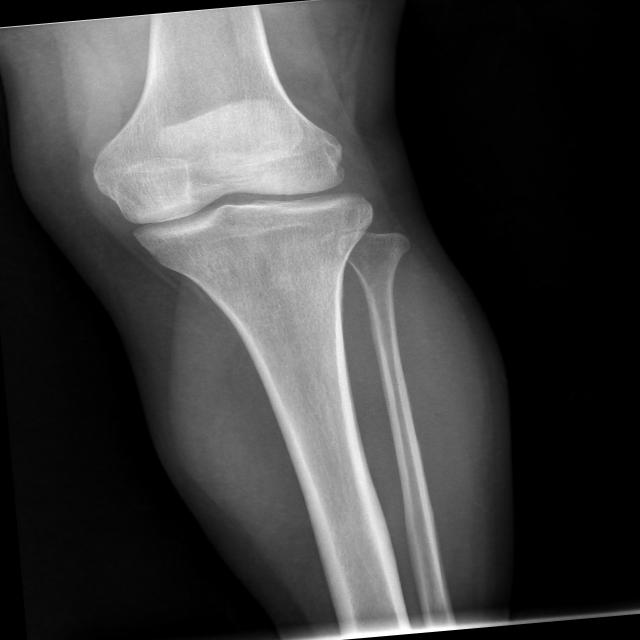Knee: (86, 77, 381, 280)
